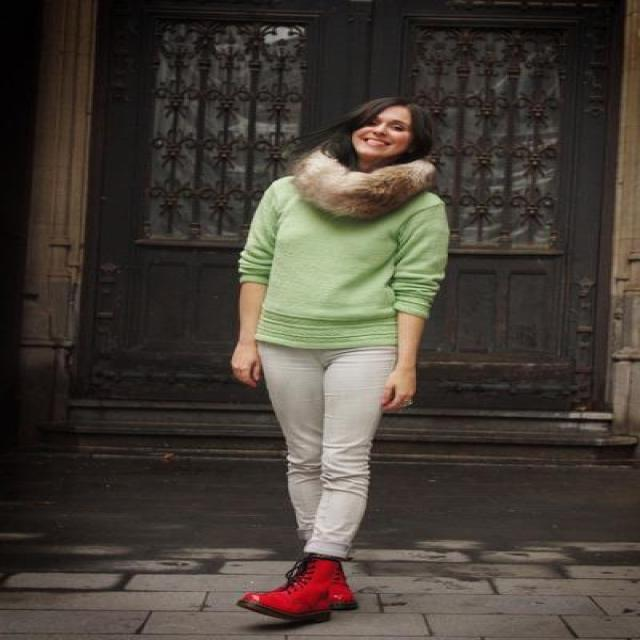jacket: (238, 176, 448, 351)
pants: (254, 339, 390, 556)
shoe: (237, 561, 357, 630)
